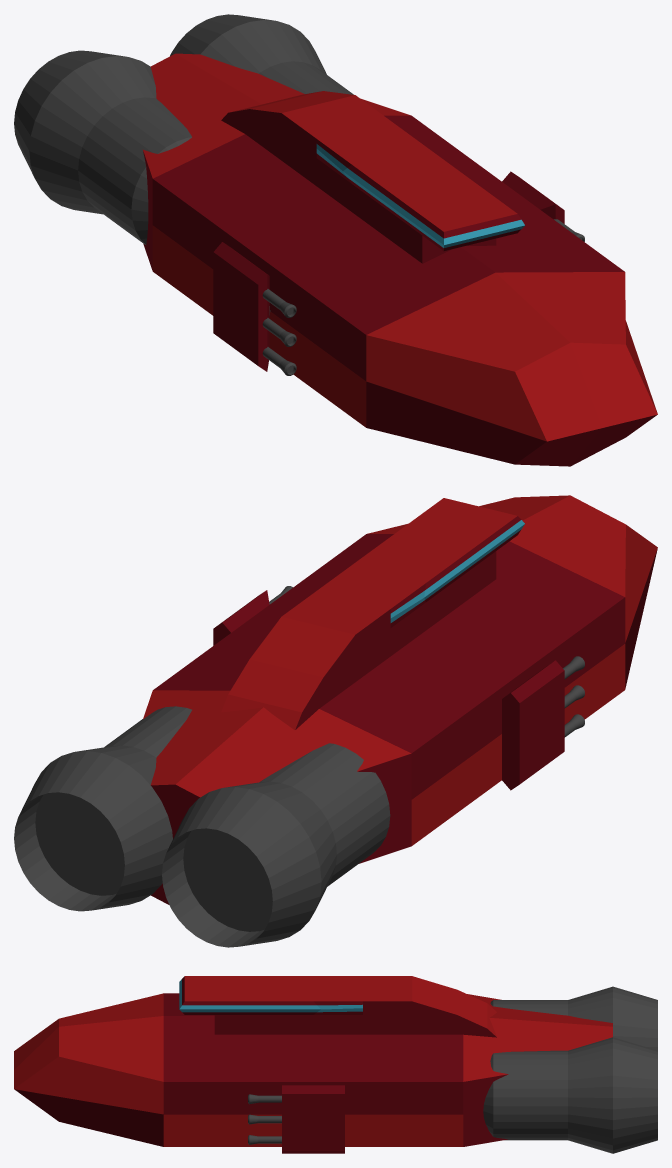
File: Corvette.fbx
The picture shows the model from 3 angles, top to bottom: view 1: azimuth 30°, elevation 25°; view 2: azimuth 150°, elevation 25°; view 3: azimuth 270°, elevation 25°; orthographic projection. The views are drawn at different scales.
Visible parts, largest first — view 1: Cube, Cylinder, Cube.001, Cylinder.002, Cylinder.001; view 2: Cube, Cylinder, Cube.001, Cylinder.002, Cylinder.001; view 3: Cube, Cylinder, Cube.001, Cylinder.001.
Part boxes in pixels (left/top/right/bottom): Cube: left=143, top=53, right=657, bottom=466; Cylinder: left=14, top=14, right=353, bottom=244; Cube.001: left=221, top=91, right=524, bottom=263; Cylinder.002: left=213, top=242, right=296, bottom=375; Cylinder.001: left=502, top=171, right=584, bottom=241; Cube: left=143, top=495, right=657, bottom=904; Cylinder: left=14, top=706, right=390, bottom=947; Cube.001: left=221, top=498, right=524, bottom=729; Cylinder.002: left=502, top=656, right=584, bottom=790; Cylinder.001: left=213, top=586, right=292, bottom=645; Cube: left=14, top=993, right=612, bottom=1146; Cylinder: left=483, top=986, right=657, bottom=1153; Cube.001: left=179, top=976, right=496, bottom=1037; Cylinder.001: left=248, top=1085, right=344, bottom=1153.
Bounding box in the file's own units: 166 × 100 × 430.
